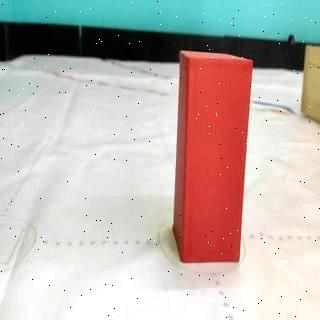redbox: (175, 51, 253, 262)
